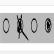correct: (44, 16, 52, 36)
no answer: (2, 16, 10, 37), (31, 16, 38, 36)
not correct: (16, 13, 29, 43)
